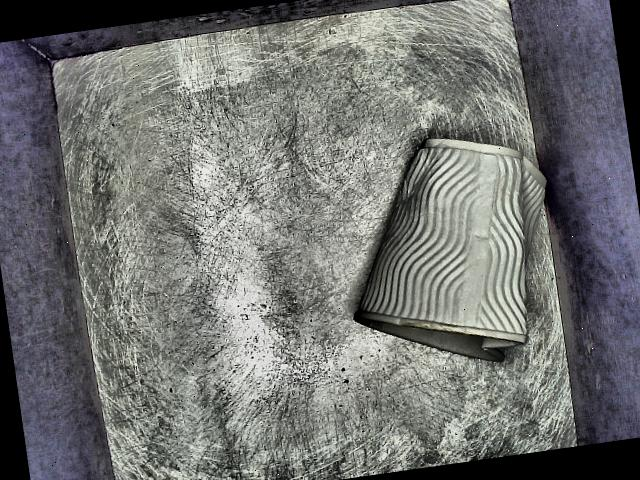Paper: (329, 116, 592, 418)
